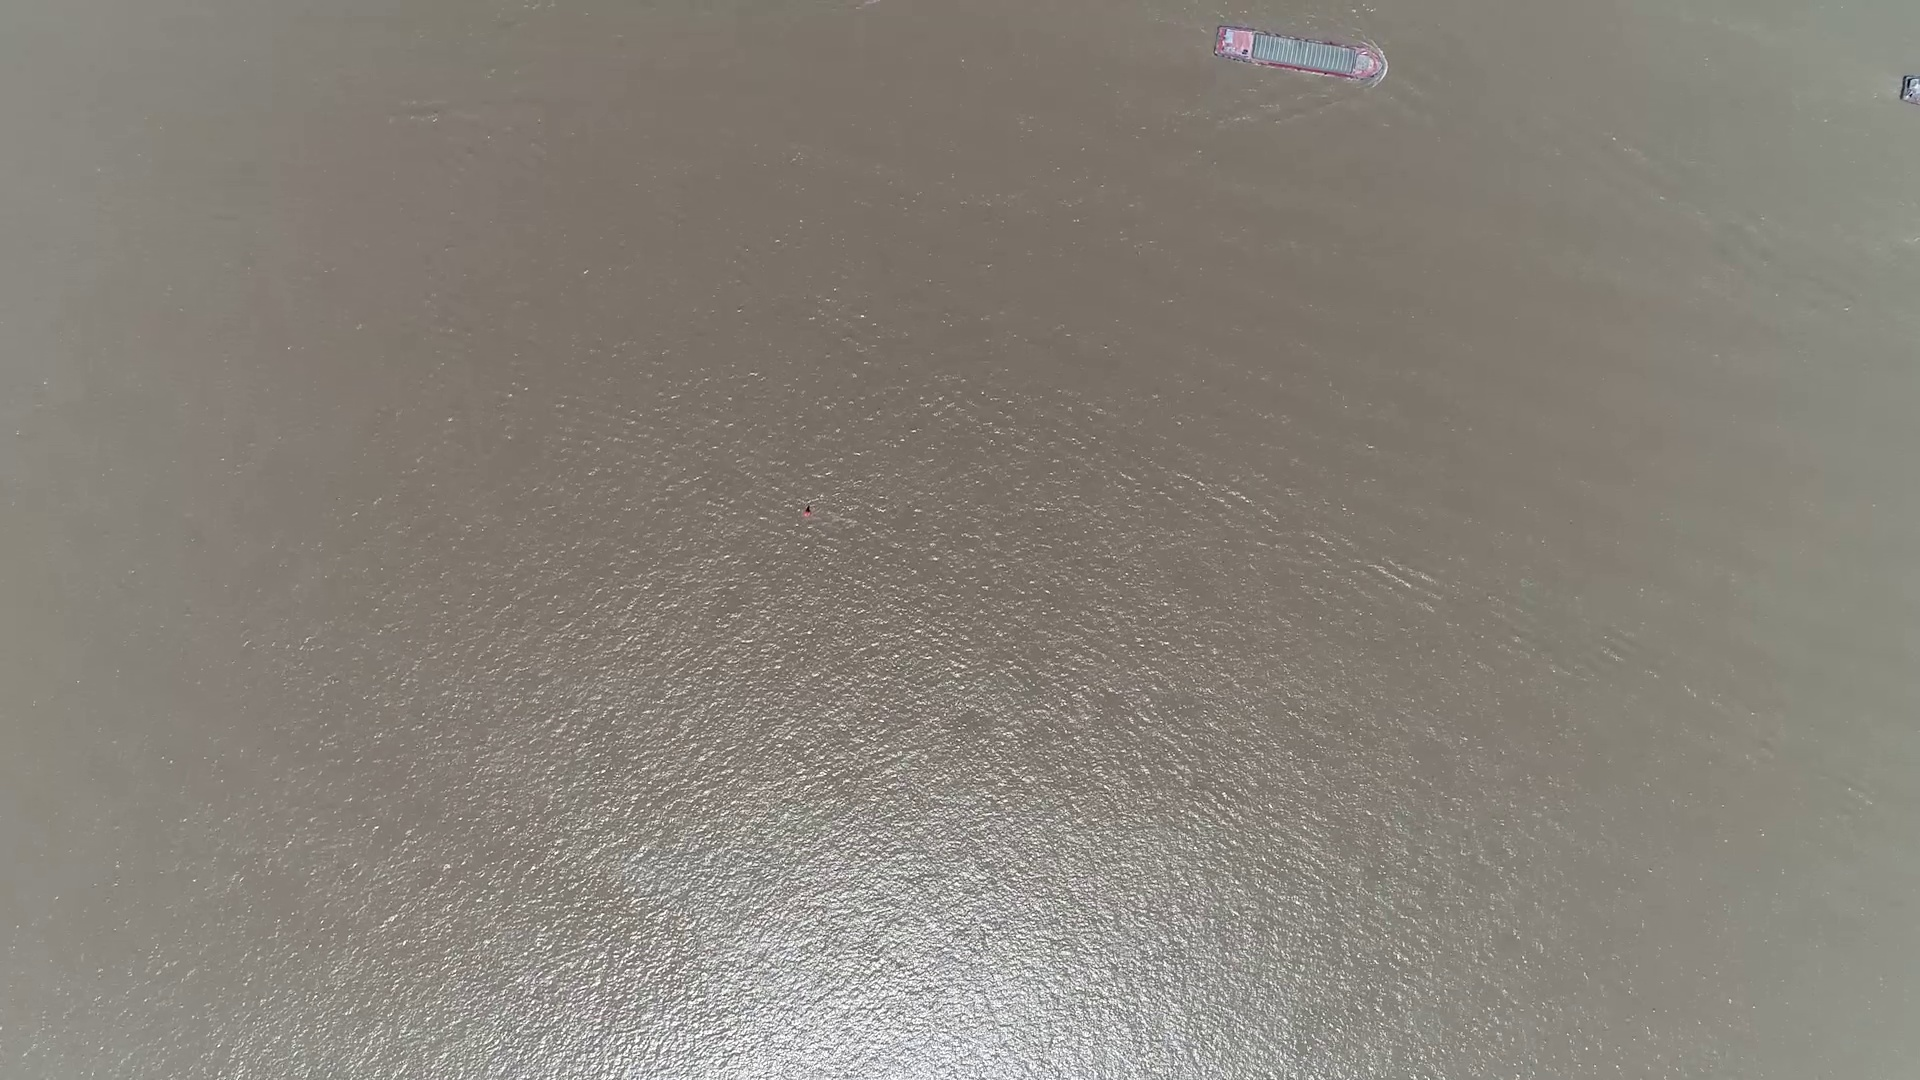ship: (1213, 26, 1386, 80)
